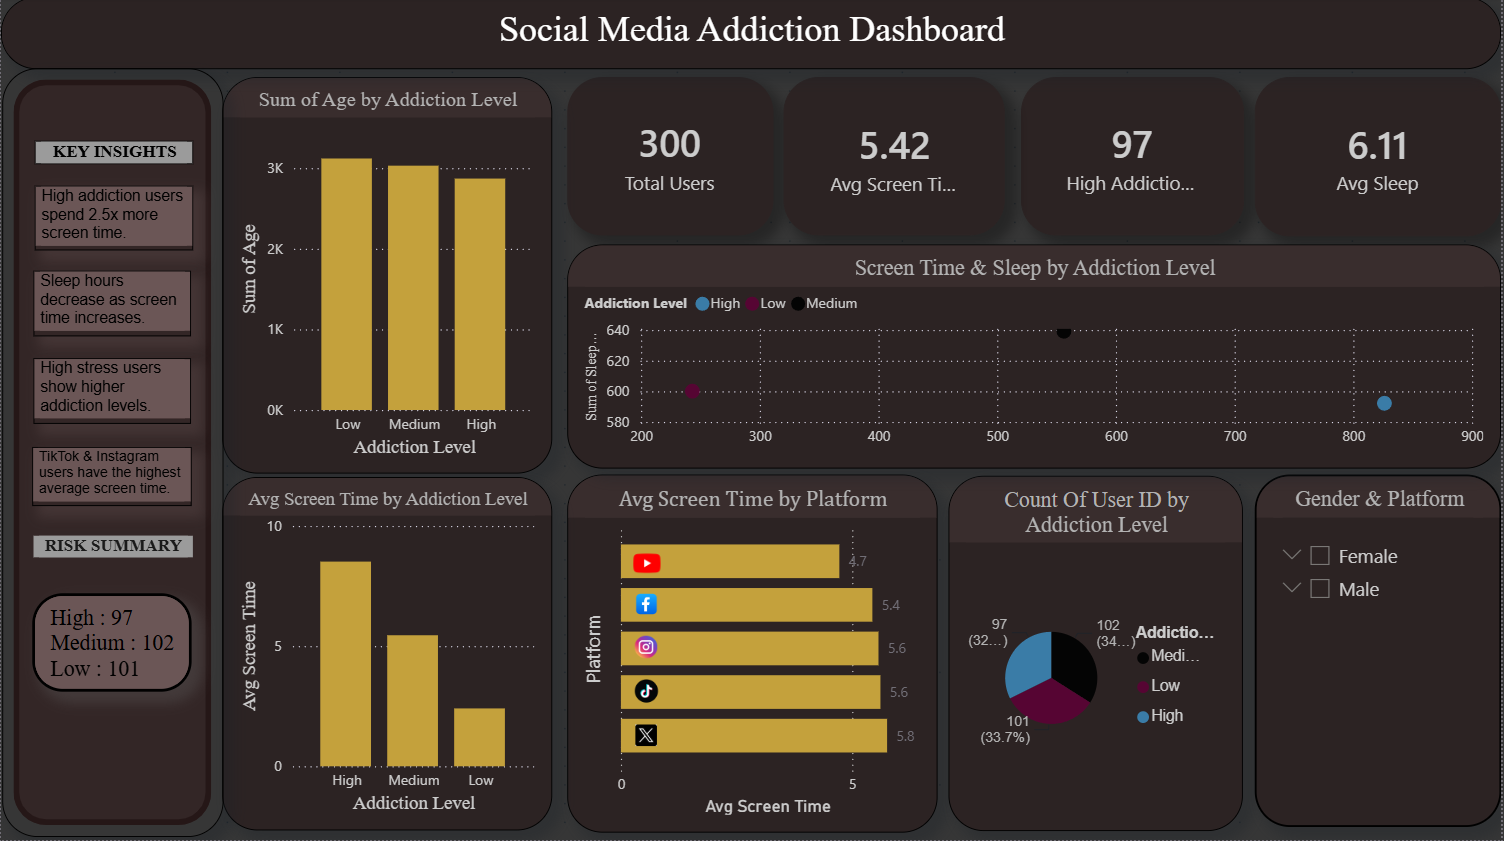

This screenshot's page, from the dashboard's own definition file:
{"tool":"powerbi","page":{"name":"Page 1","canvas":[1280,720],"ordinal":0},"visuals":[{"type":"cardVisual","fields":{"Data":["social_media_addiction_dataset.Total Users"]},"box":[482.7,68.7,176,135.3],"z":0},{"type":"cardVisual","fields":{"Data":["social_media_addiction_dataset.High Addiction Users"]},"box":[870,68.7,190,135.3],"z":1000},{"type":"cardVisual","fields":{"Data":["social_media_addiction_dataset.Avg Screen Time"]},"box":[667.3,68.7,188.7,135.3],"z":2000},{"type":"cardVisual","fields":{"Data":["social_media_addiction_dataset.Avg Sleep"]},"box":[1070,68.7,210,136],"z":3000},{"type":"clusteredBarChart","fields":{"Category":["social_media_addiction_dataset.Platform"],"Y":["social_media_addiction_dataset.Avg Screen Time"]},"box":[482.9,407.1,315.7,305.7],"z":4000},{"type":"clusteredColumnChart","title":"Sum of Age by Addiction Level","fields":{"Y":["Sum(social_media_addiction_dataset.Age)"],"Category":["social_media_addiction_dataset.AddictionLevel"]},"box":[188.6,68.6,281.4,338.6],"z":5000},{"type":"pieChart","title":"Count Of User ID by Addiction Level","fields":{"Category":["social_media_addiction_dataset.AddictionLevel"],"Y":["CountNonNull(social_media_addiction_dataset.UserID)"]},"box":[809,408,251,303],"z":6000},{"type":"slicer","title":"Gender & Platform","fields":{"Values":["social_media_addiction_dataset.Gender","social_media_addiction_dataset.Platform","social_media_addiction_dataset.StressLevel","social_media_addiction_dataset.AddictionLevel"]},"box":[1069.9,407.7,210.1,300.5],"z":7000},{"type":"clusteredColumnChart","fields":{"Category":["social_media_addiction_dataset.AddictionLevel"],"Y":["social_media_addiction_dataset.Avg Screen Time"]},"box":[188.8,410,281.2,301.2],"z":8000},{"type":"textbox","title":"Social Media Addiction Dashboard","box":[0,0,1280,61.2],"z":9000},{"type":"shape","box":[1.2,61.2,188.8,656.2],"z":10000},{"type":"textbox","title":"High addiction users spend 2.5x more screen time.","box":[28.8,161.2,135,55],"z":11000},{"type":"textbox","title":" Sleep hours decrease as screen time increases.","box":[28,234,134.7,56],"z":12000},{"type":"textbox","title":" High stress users show higher addiction levels.","box":[28,308.7,134.7,56],"z":13000},{"type":"textbox","title":" TikTok & Instagram users have the highest average screen time.","box":[27.1,384.3,135.7,50],"z":14000},{"type":"scatterChart","title":"Screen Time & Sleep by Addiction Level","fields":{"X":["Sum(social_media_addiction.ScreenTimeHours)"],"Y":["Sum(social_media_addiction.SleepHours)"],"Series":["social_media_addiction.Addiction Level"]},"box":[483.1,211.2,796.9,191.2],"z":15000},{"type":"textbox","title":"KEY INSIGHTS","box":[28.8,122.5,135,20],"z":16000},{"type":"image","box":[527.5,447.5,46.2,70],"z":17000},{"type":"image","box":[524.8,545.5,51.3,19],"z":18000},{"type":"image","box":[517.4,572.6,65.8,39],"z":19000},{"type":"image","box":[508.4,508.4,83.9,18.1],"z":20000},{"type":"image","box":[540,621,21.3,18.1],"z":20001},{"type":"textbox","title":"RISK SUMMARY","box":[27.4,460,136.3,18.4],"z":20002},{"type":"textbox","title":"   High : 97   Medium : 102   Low : 101","box":[26.2,508.8,136.2,83.8],"z":20003}]}

Visuals, with their boxes in screenshot pixels (x1, y1, x2, y2), scaled from the page's 1280x720 canvas onto the 1504x841 screenshot:
cardVisual - social_media_addiction_dataset.Total Users: box=[567, 80, 774, 238]
cardVisual - social_media_addiction_dataset.High Addiction Users: box=[1022, 80, 1246, 238]
cardVisual - social_media_addiction_dataset.Avg Screen Time: box=[784, 80, 1006, 238]
cardVisual - social_media_addiction_dataset.Avg Sleep: box=[1257, 80, 1503, 239]
clusteredBarChart - social_media_addiction_dataset.Platform x social_media_addiction_dataset.Avg Screen Time: box=[567, 476, 938, 833]
"Sum of Age by Addiction Level" clusteredColumnChart: box=[222, 80, 552, 476]
"Count Of User ID by Addiction Level" pieChart: box=[951, 477, 1246, 830]
"Gender & Platform" slicer: box=[1257, 476, 1503, 827]
clusteredColumnChart - social_media_addiction_dataset.AddictionLevel x social_media_addiction_dataset.Avg Screen Time: box=[222, 479, 552, 831]
"Social Media Addiction Dashboard" textbox: box=[0, 0, 1503, 71]
shape: box=[1, 71, 223, 838]
"High addiction users spend 2.5x more screen time." textbox: box=[34, 188, 192, 253]
" Sleep hours decrease as screen time increases." textbox: box=[33, 273, 191, 339]
" High stress users show higher addiction levels." textbox: box=[33, 361, 191, 426]
" TikTok & Instagram users have the highest average screen time." textbox: box=[32, 449, 191, 507]
"Screen Time & Sleep by Addiction Level" scatterChart: box=[568, 247, 1503, 470]
"KEY INSIGHTS" textbox: box=[34, 143, 192, 166]
image: box=[620, 523, 674, 604]
image: box=[617, 637, 677, 659]
image: box=[608, 669, 685, 714]
image: box=[597, 594, 696, 615]
image: box=[634, 725, 660, 747]
"RISK SUMMARY" textbox: box=[32, 537, 192, 559]
"   High : 97   Medium : 102   Low : 101" textbox: box=[31, 594, 191, 692]
